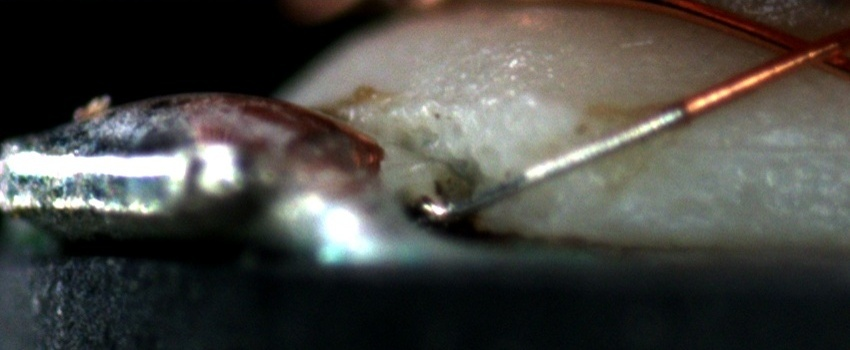CL: (752, 23, 842, 79)
DL: (669, 112, 850, 173)
TS: (422, 102, 684, 227)
